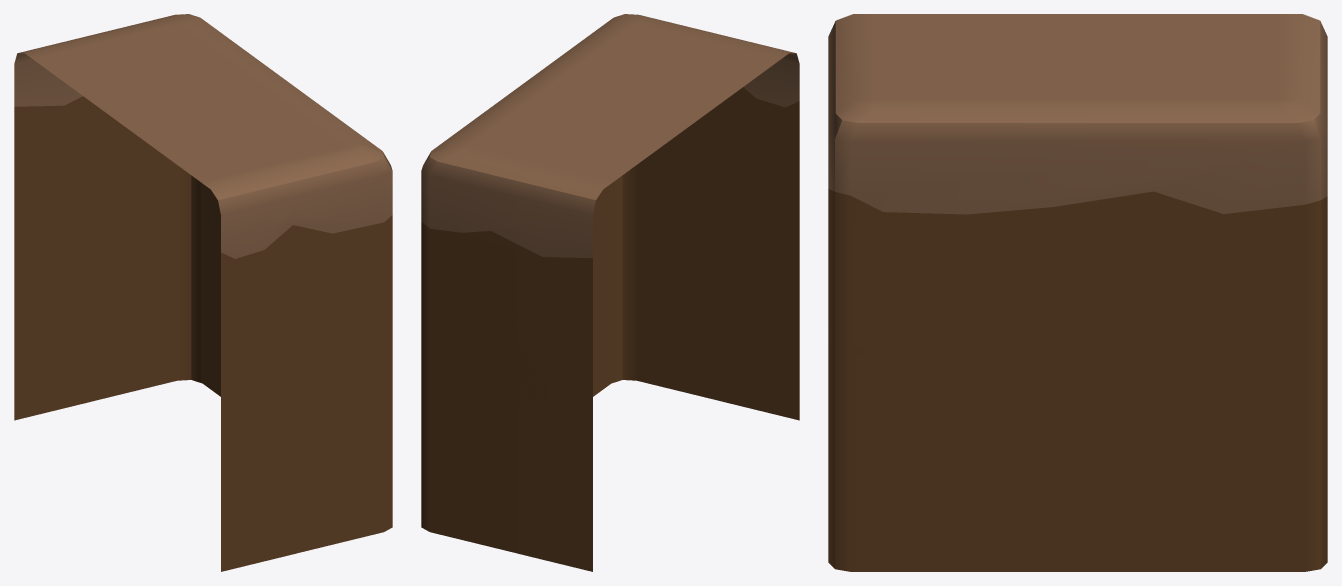
File: ladderparts.fbx
3 views of the same model, side by side, from view 1: azimuth 30°, elevation 25°; view 2: azimuth 150°, elevation 25°; view 3: azimuth 270°, elevation 25° (orthographic). The views are drawn at different scales.
Visible parts, largest first — view 1: CAPTP, CAPDWN, STRDWN, STRTP; view 2: CAPTP, CAPDWN, STRDWN, STRTP; view 3: CAPTP, CAPDWN.
Part boxes in pixels (x1,y1,x2,y2): CAPTP: [14, 14, 392, 388]; CAPDWN: [14, 199, 392, 553]; STRDWN: [14, 222, 296, 571]; STRTP: [14, 53, 296, 391]; CAPTP: [421, 14, 799, 390]; CAPDWN: [421, 199, 799, 553]; STRDWN: [517, 224, 799, 571]; STRTP: [517, 53, 799, 391]; CAPTP: [828, 14, 1327, 354]; CAPDWN: [828, 345, 1327, 571].
Bounding box in the file's own units: 1.23 × 2.46 × 2.45.
